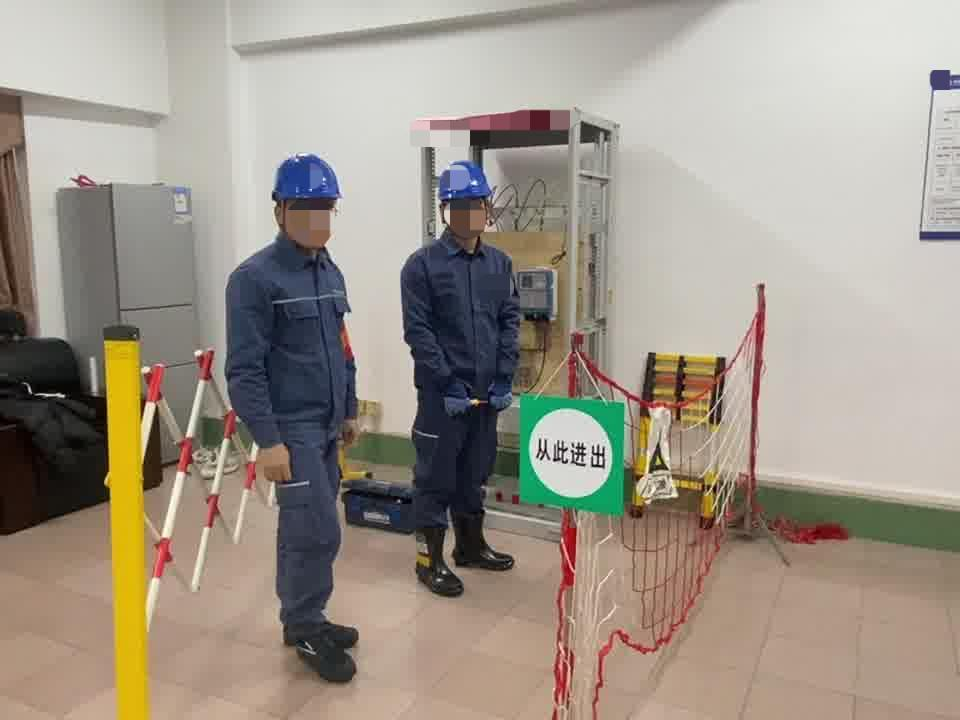halt: (272, 154, 347, 249), (438, 161, 499, 244)
